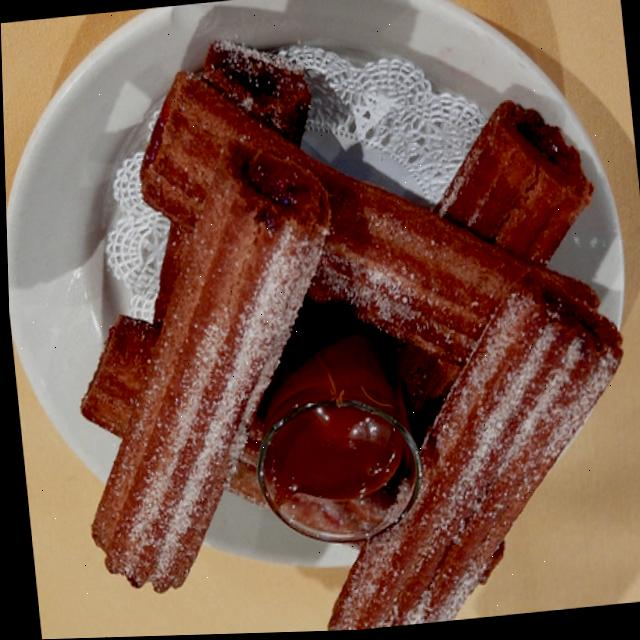炸货点心: (24, 8, 640, 639)
